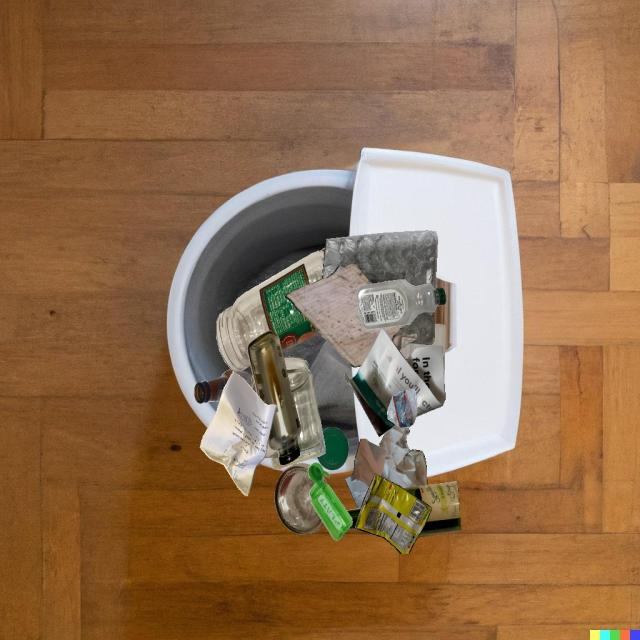glass: (216, 251, 325, 371), (247, 331, 301, 465), (274, 463, 324, 535), (255, 383, 301, 458), (284, 357, 322, 444), (403, 481, 461, 537), (194, 370, 253, 404), (320, 247, 325, 252)
paper: (344, 328, 445, 437), (285, 264, 382, 367), (200, 371, 277, 496), (345, 425, 427, 508)
plastic: (322, 230, 438, 289), (323, 268, 400, 337), (357, 279, 446, 330), (308, 462, 353, 541), (270, 416, 325, 470), (399, 324, 446, 375), (317, 427, 349, 470), (387, 389, 417, 428)
trash: (355, 473, 432, 554)
